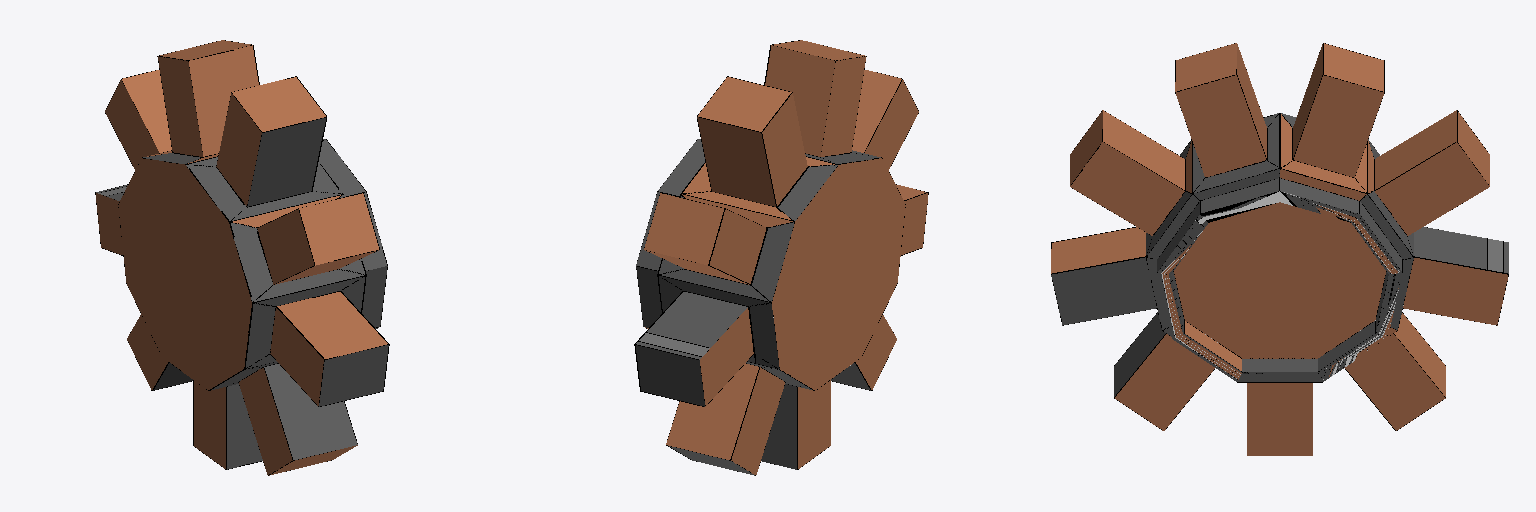
3 views of the same model, side by side, from view 1: azimuth 30°, elevation 25°; view 2: azimuth 150°, elevation 25°; view 3: azimuth 270°, elevation 25° (orthographic).
Visible parts, largest first — view 1: Beam_to_gear_box_r_Cylinder.010; view 2: Beam_to_gear_box_r_Cylinder.010; view 3: Beam_to_gear_box_r_Cylinder.010.
Part boxes in pixels (bbox=[...]): Beam_to_gear_box_r_Cylinder.010: bbox=[95, 40, 389, 475]; Beam_to_gear_box_r_Cylinder.010: bbox=[634, 40, 928, 475]; Beam_to_gear_box_r_Cylinder.010: bbox=[1051, 43, 1508, 455].
Size of the model in its own units: 0.5759 by 1.48 by 1.61.
Materials: 1 (1 with a texture image).